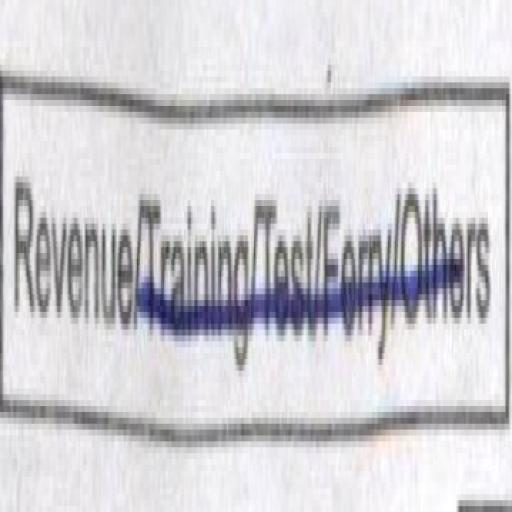check: (10, 79, 138, 453)
